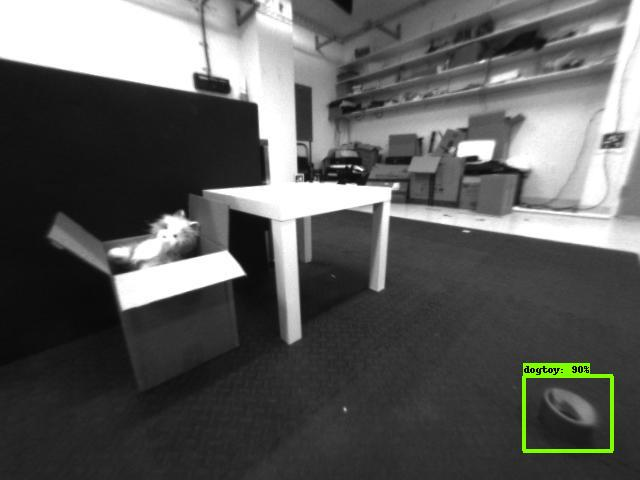dogtoy: (517, 372, 612, 450)
